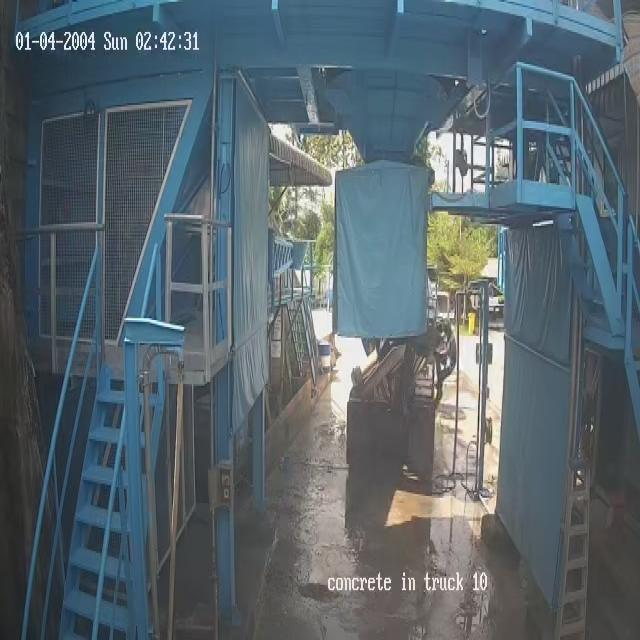cement_mixer_truck: (346, 279, 455, 478)
